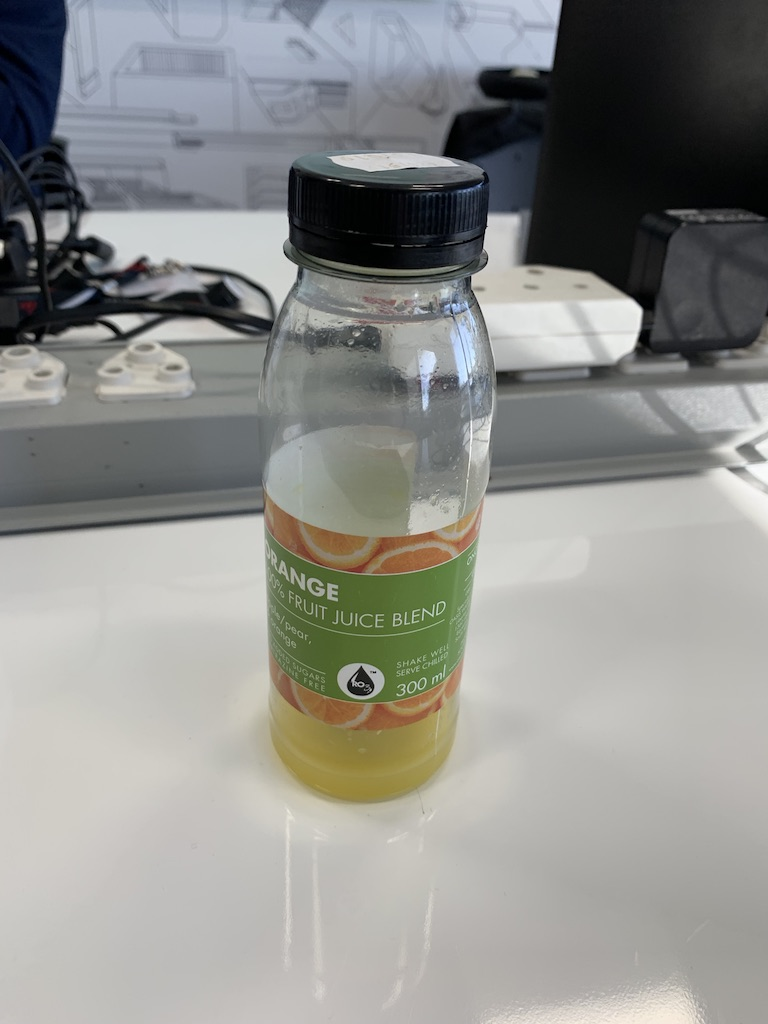bottle: (218, 129, 530, 833)
